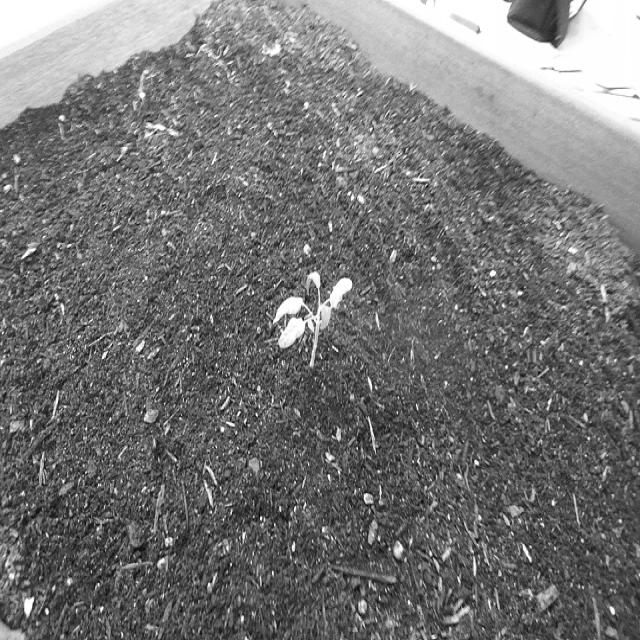Healthy: (271, 264, 354, 379)
